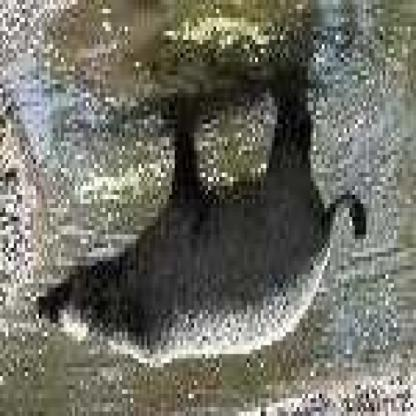boar: (54, 91, 383, 383)
